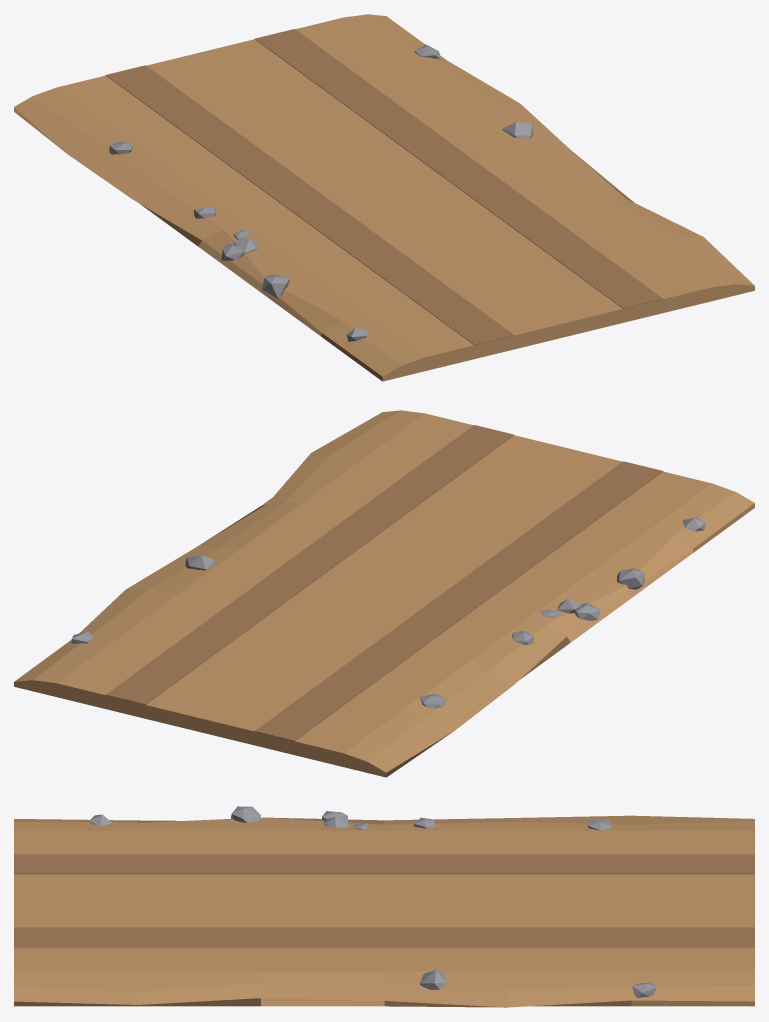
File: RoadDirt.fbx
3 views of the same model, one above another, from view 1: azimuth 30°, elevation 25°; view 2: azimuth 150°, elevation 25°; view 3: azimuth 270°, elevation 25° (orthographic).
Parts seen in each view (by area): view 1: RoadDirt_Dirt, RoadDirt_Ruts, RoadDirt_Pebbles; view 2: RoadDirt_Dirt, RoadDirt_Ruts, RoadDirt_Pebbles; view 3: RoadDirt_Dirt, RoadDirt_Ruts, RoadDirt_Pebbles.
Part boxes in pixels (<box>): RoadDirt_Dirt: <box>14,14,754,381</box>; RoadDirt_Ruts: <box>105,29,662,345</box>; RoadDirt_Pebbles: <box>109,44,533,341</box>; RoadDirt_Dirt: <box>14,410,754,777</box>; RoadDirt_Ruts: <box>105,425,663,741</box>; RoadDirt_Pebbles: <box>71,517,705,708</box>; RoadDirt_Dirt: <box>14,815,754,1007</box>; RoadDirt_Ruts: <box>14,854,754,947</box>; RoadDirt_Pebbles: <box>89,806,656,997</box>.
Size of the model in its own units: 29.43 by 1.82 by 48.
